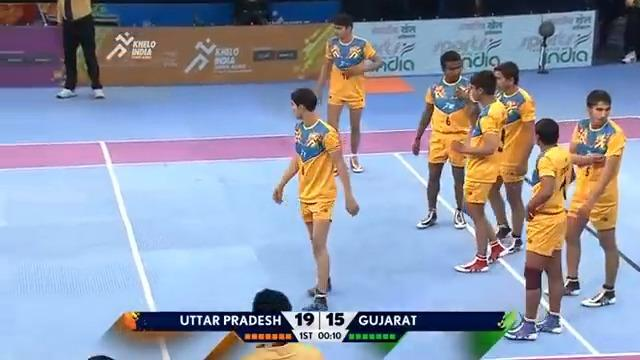Player: (271, 87, 359, 311), (503, 117, 575, 341), (561, 88, 626, 307), (448, 69, 510, 273), (411, 50, 477, 229), (311, 14, 383, 174), (491, 61, 536, 253)
referee: (54, 0, 105, 99), (619, 0, 639, 63), (232, 0, 270, 25)
